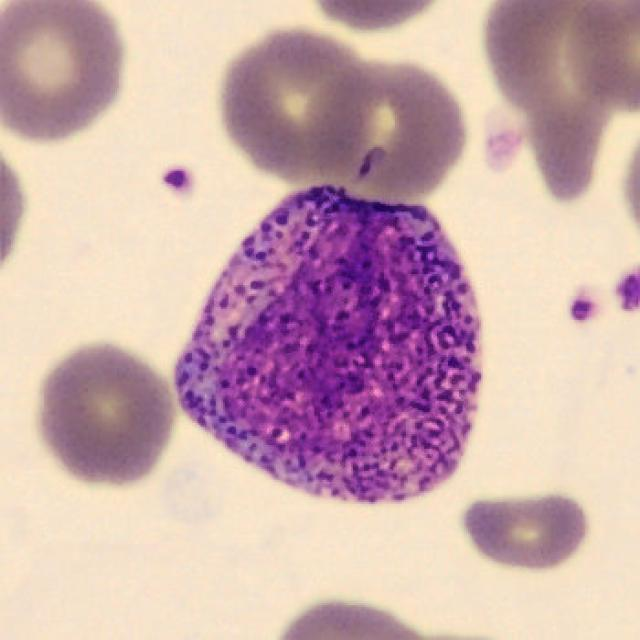Promielocito: (174, 186, 483, 504)
